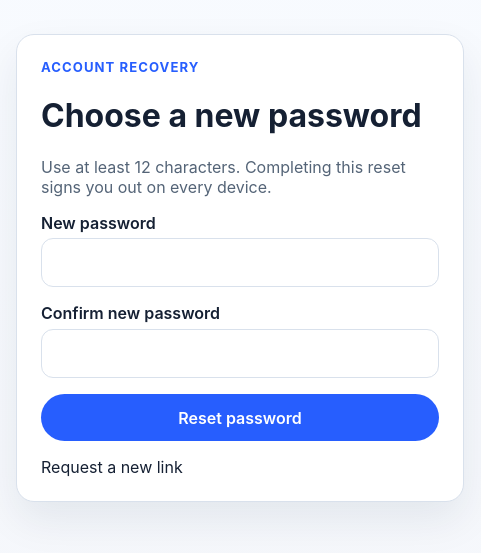
Test: password recovery flow › validates confirmation and completes a one-time reset
Expected: the heading "Choose a new password" is shown, [41,96,439,135]
Type "Replacement-Password-28!" into the password field labelled "New password". click: x=240, y=263
box: [41,238,439,287]
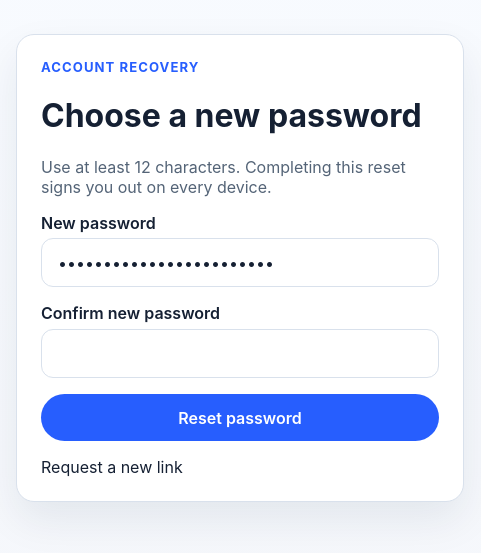
Type "Different-Password-29!" into the password field labelled "Confirm new password". click: x=240, y=354
box: [41,329,439,378]
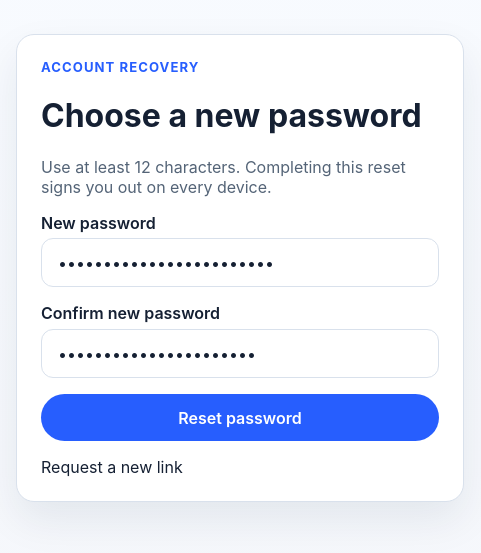
Click the button "Reset password". click: x=240, y=418
box: [41,394,439,441]
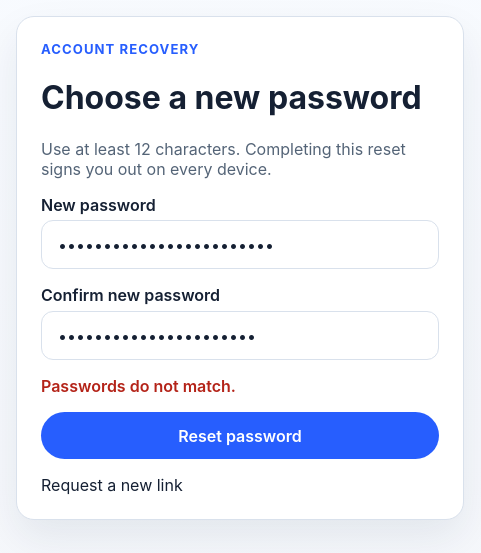
Expected: the message reads "Passwords do not match.", [41,376,236,396]
Type "Replacement-Password-28!" into the password field labelled "Confirm new password". click: x=240, y=336
box: [41,311,439,360]
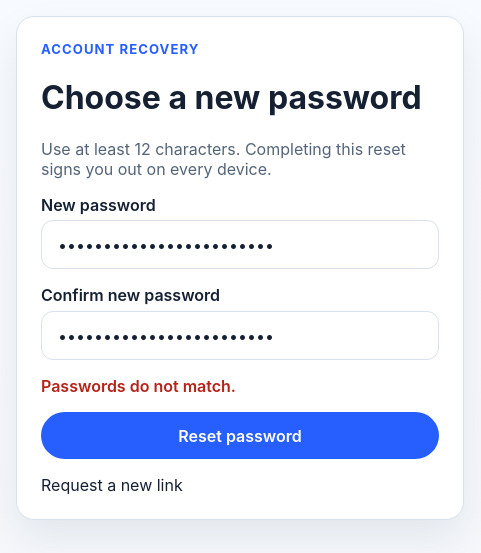
Click the button "Reset password". click: x=240, y=436
box: [41,412,439,459]
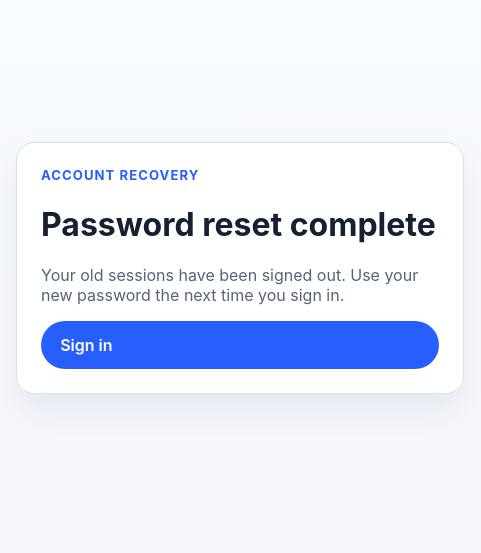
Expected: the heading "Password reset complete" is shown, [41,205,439,244]
Expected: the text "old sessions have been signed out" is shown, [41,265,418,305]
